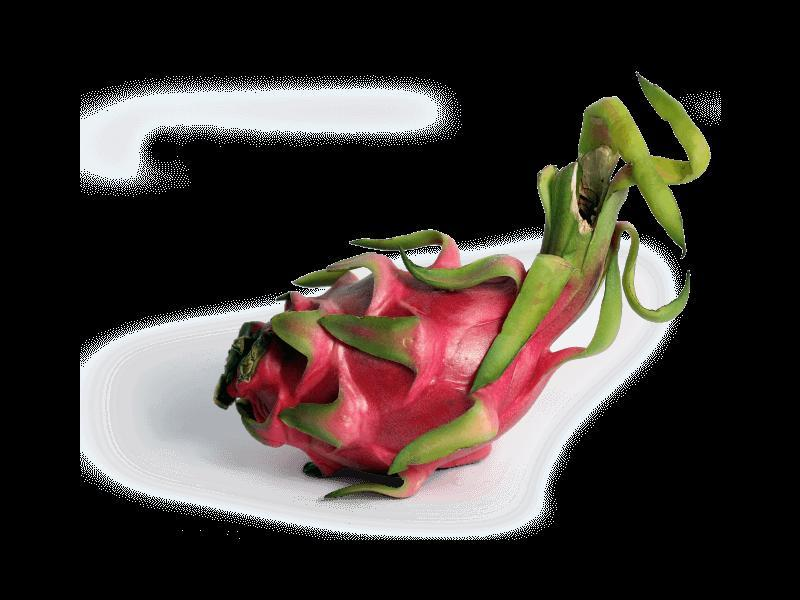dragon-fruit: (247, 264, 552, 479)
